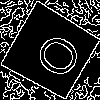O: (25, 26, 84, 82)
